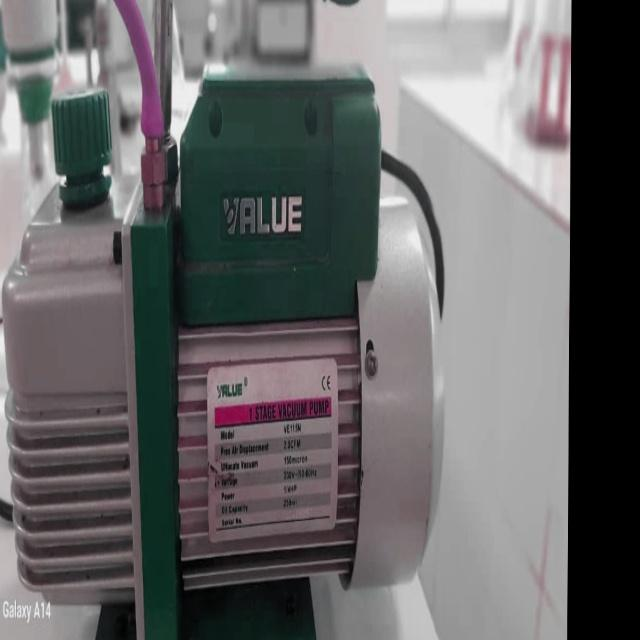Vacuum Pump: (0, 0, 457, 636)
